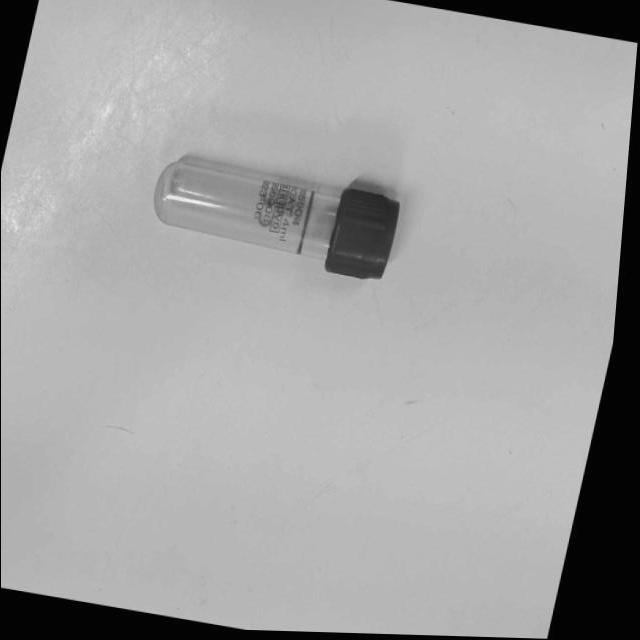Pathological: (2, 1, 638, 637)
Sharps: (153, 153, 401, 280)
